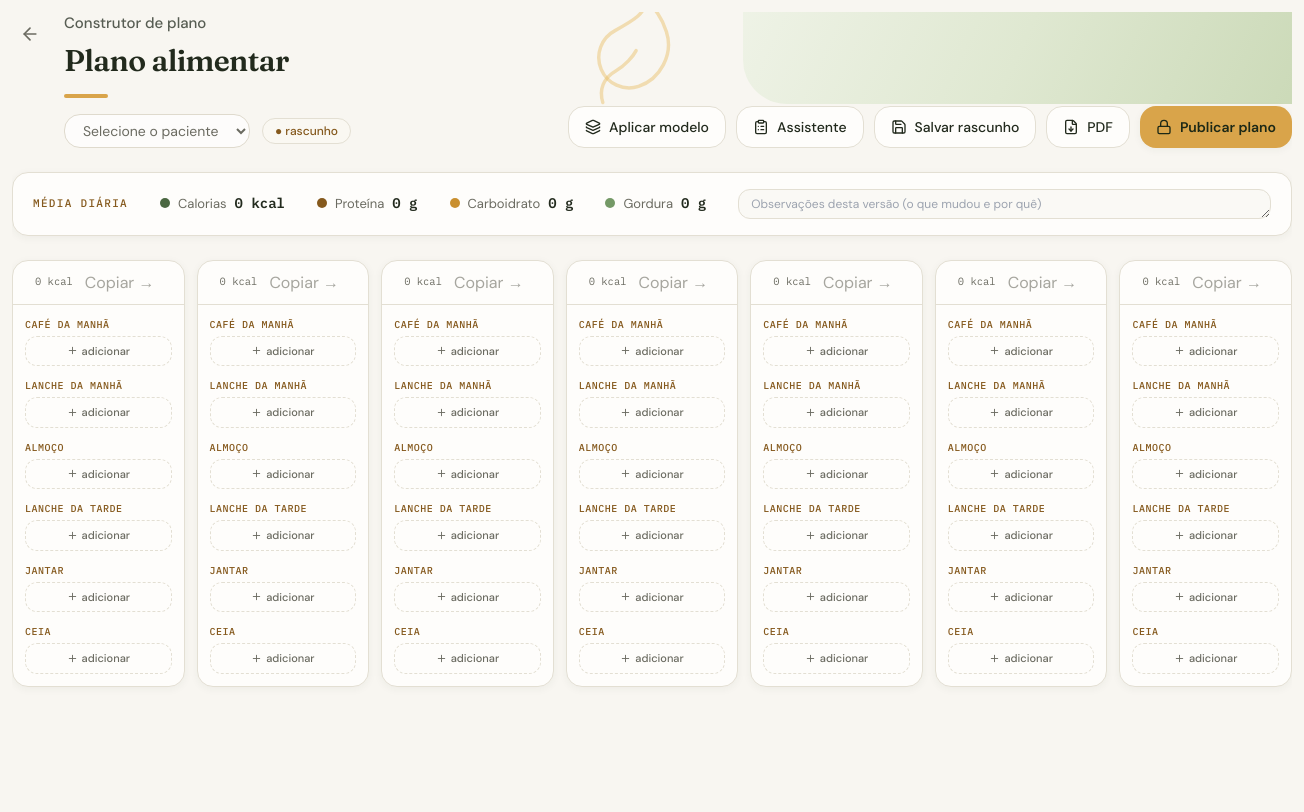
Scenario: PlanBuilder — PDF › explica por que o PDF não sai em vez de ficar cinza sem motivo
What coordinates should you click on to do the following:
click the button "PDF"
I would click on:
 (1088, 126)
Its box is [1046,106,1130,148].
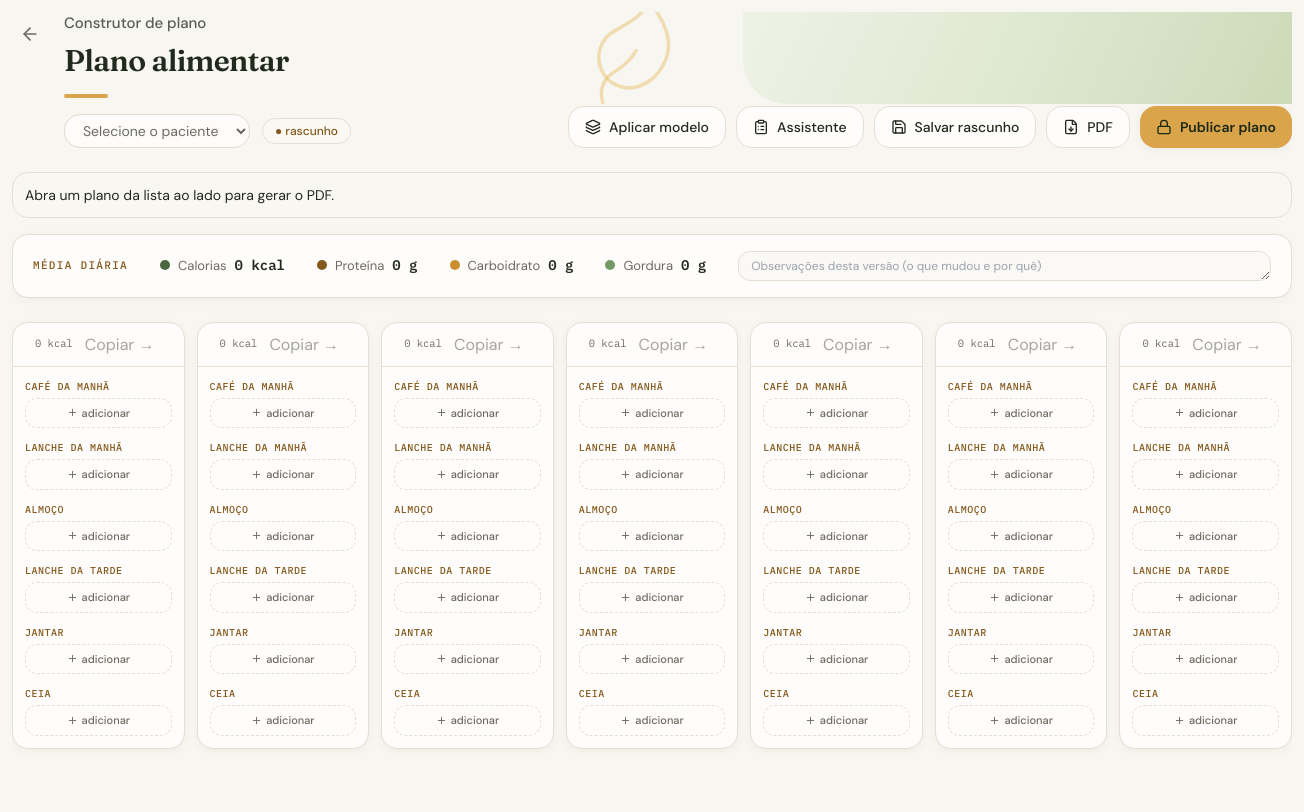
Check: the text "Abra um plano da lista ao lado para gerar o PDF." is shown, box [12,172,1292,218]
